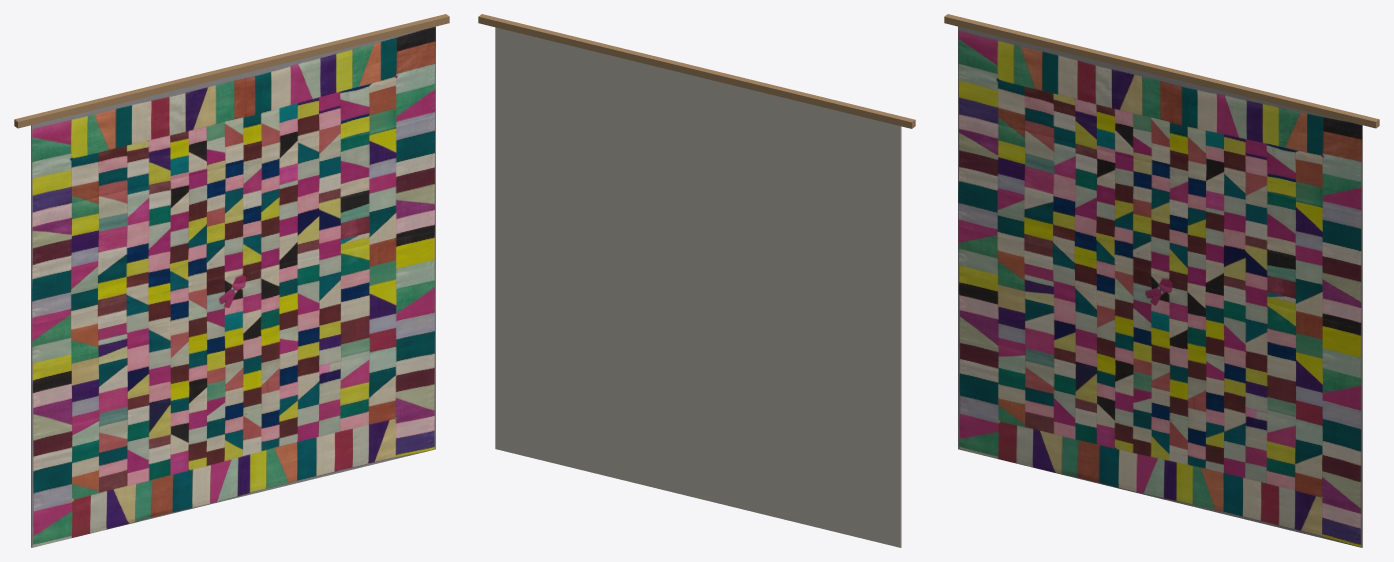
The model's file is tapestry-pojagi.glb.
3 views of the same model, side by side, from view 1: azimuth 30°, elevation 25°; view 2: azimuth 150°, elevation 25°; view 3: azimuth 330°, elevation 25° (orthographic).
Visible parts, largest first — view 1: tapestry-pojagi; view 2: tapestry-pojagi; view 3: tapestry-pojagi.
Boxes of the visible parts, x1,y1,x2,y2 form: tapestry-pojagi: (14,14,449,547); tapestry-pojagi: (478,14,915,547); tapestry-pojagi: (944,14,1379,547).
Size of the model in its own units: 1.24 by 1.18 by 0.018.
3 materials, 1 textured.
